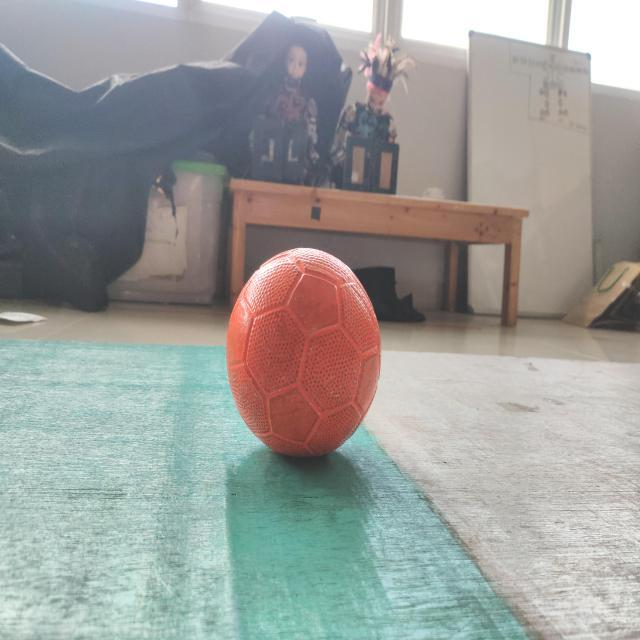bola: (221, 243, 385, 461)
